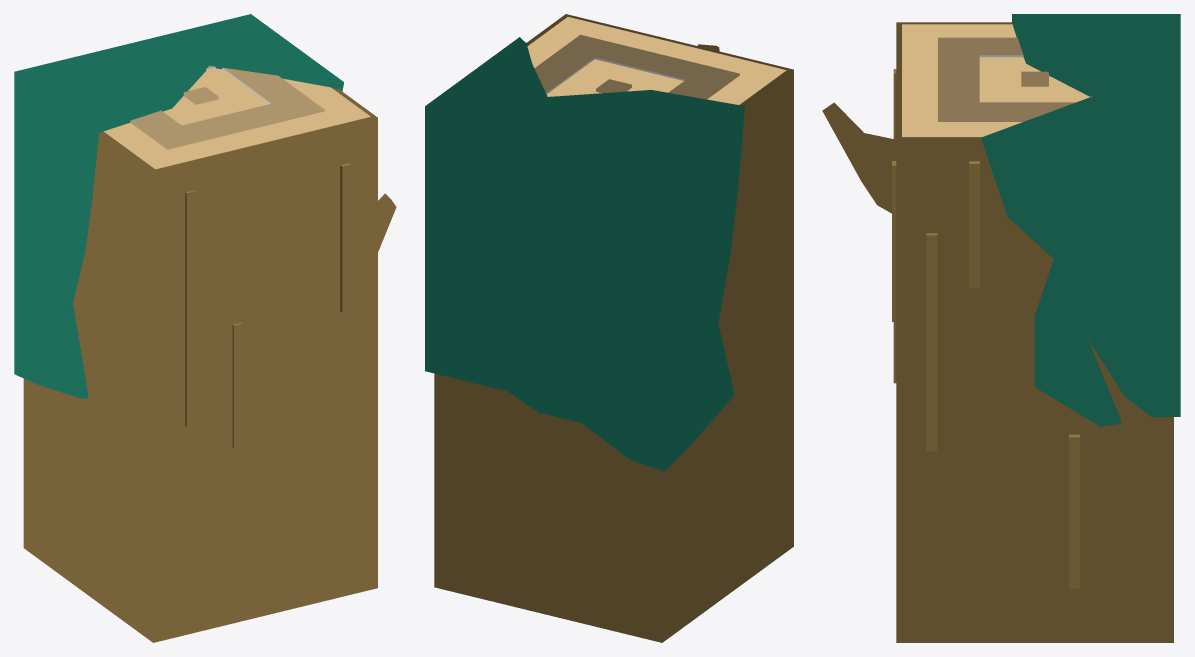
The model's file is trunk2.glb.
3 views of the same model, side by side, from view 1: azimuth 30°, elevation 25°; view 2: azimuth 150°, elevation 25°; view 3: azimuth 270°, elevation 25° (orthographic). The views are drawn at different scales.
Visible parts, largest first — view 1: Cube_1, Cube.034, Cube.035, Cube.3_2.002, Cube.1_1, Cube.038, Cube.6_1, Cube.037, Cube.041; view 2: Cube.034, Cube_1, Cube.035, Cube.3_2.002; view 3: Cube_1, Cube.034, Cube.035, Cube.3_2.002, Cube.041, Cube.1_1, Cube.036, Cube.039, Cube.3_1.002, Cube.6_1.
Boxes of the visible parts, left/top/right/bottom form: Cube_1: left=23, top=88, right=377, bottom=642; Cube.034: left=14, top=14, right=343, bottom=398; Cube.035: left=103, top=68, right=370, bottom=169; Cube.3_2.002: left=130, top=65, right=324, bottom=149; Cube.1_1: left=218, top=186, right=308, bottom=287; Cube.038: left=185, top=190, right=195, bottom=426; Cube.6_1: left=340, top=163, right=351, bottom=312; Cube.037: left=232, top=322, right=242, bottom=448; Cube.041: left=378, top=193, right=396, bottom=251; Cube.034: left=425, top=37, right=744, bottom=471; Cube_1: left=434, top=14, right=793, bottom=642; Cube.035: left=527, top=17, right=786, bottom=104; Cube.3_2.002: left=534, top=34, right=739, bottom=99; Cube_1: left=896, top=22, right=1173, bottom=642; Cube.034: left=981, top=14, right=1180, bottom=426; Cube.035: left=902, top=24, right=1089, bottom=137; Cube.3_2.002: left=938, top=37, right=1092, bottom=121; Cube.041: left=964, top=297, right=1026, bottom=374; Cube.1_1: left=822, top=102, right=896, bottom=213; Cube.036: left=926, top=233, right=937, bottom=451; Cube.039: left=1069, top=434, right=1079, bottom=588; Cube.3_1.002: left=969, top=161, right=979, bottom=287; Cube.6_1: left=892, top=161, right=896, bottom=321.
Size of the model in its own units: 1.9 by 2.98 by 1.91.
